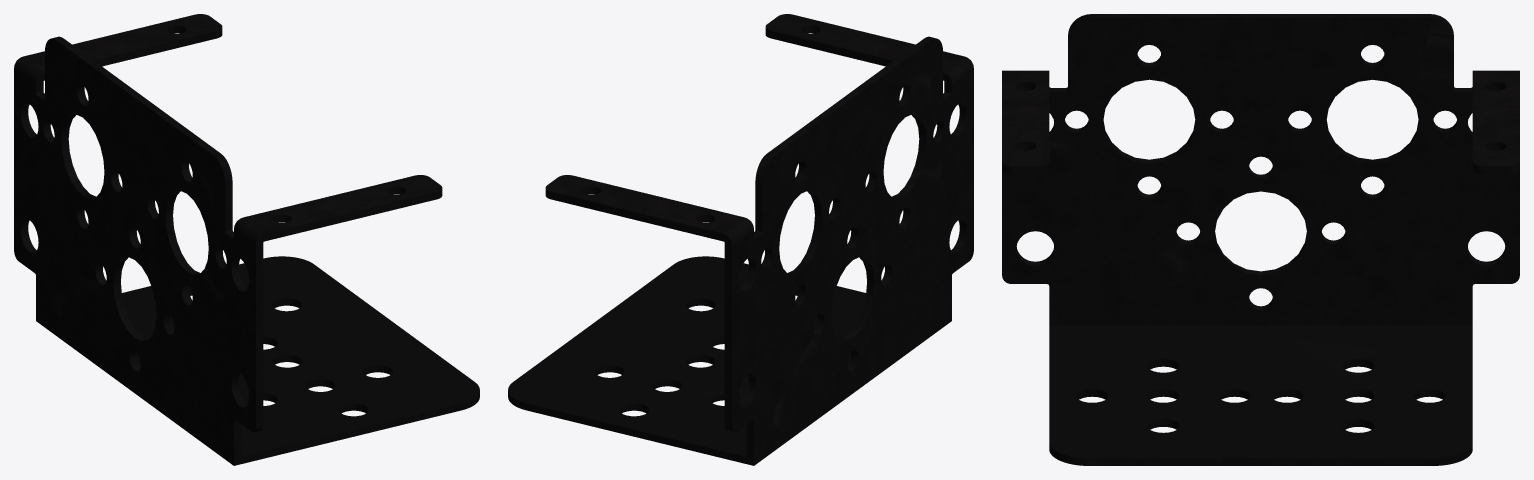
3 views of the same model, side by side, from view 1: azimuth 30°, elevation 25°; view 2: azimuth 150°, elevation 25°; view 3: azimuth 270°, elevation 25° (orthographic). The views are drawn at different scales.
Visible parts, largest first — view 1: pCube39; view 2: pCube39; view 3: pCube39.
Boxes of the visible parts, x1=… form: pCube39: x1=14, y1=14, x2=479, y2=465; pCube39: x1=508, y1=14, x2=973, y2=465; pCube39: x1=1002, y1=14, x2=1519, y2=465.
Bounding box in the file's own units: 3.41 × 5.5 × 3.71.
Materials: 1 (1 with a texture image).
